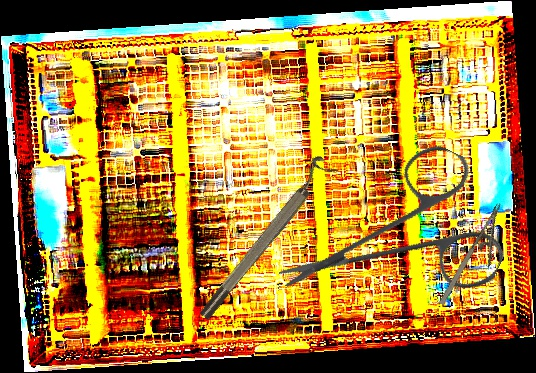Fixation Ring: (189, 153, 339, 323)
Iris Scissors: (275, 106, 535, 365)
Needle Holder: (436, 201, 521, 316)
